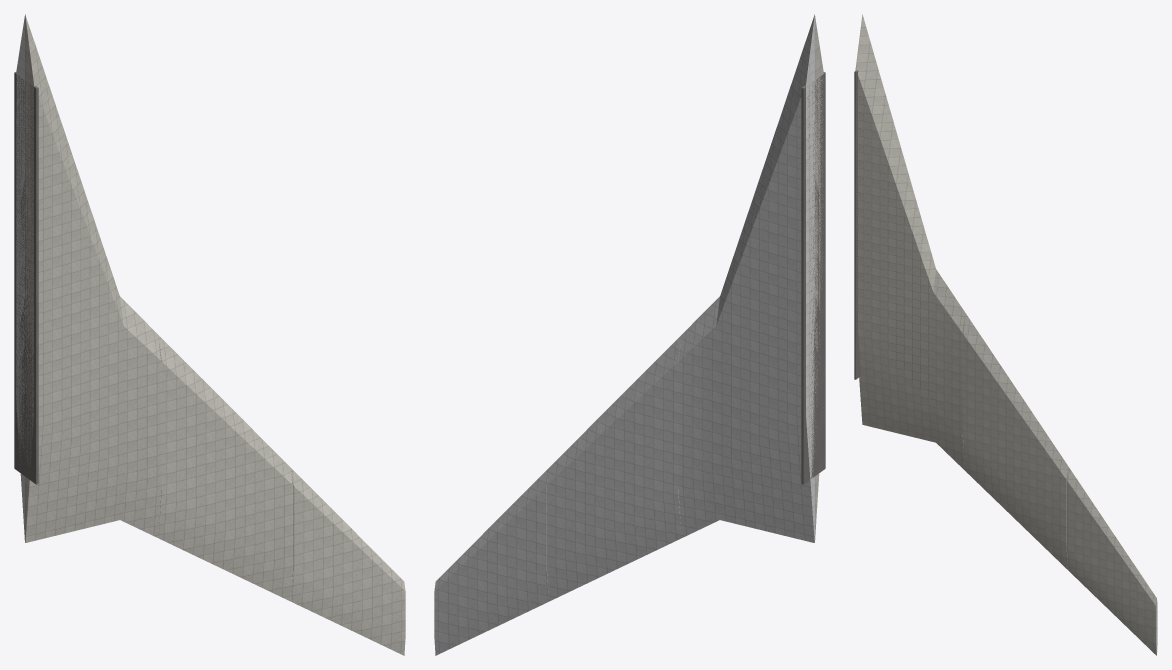
File: ax_aero_17_wgd_delta_wing_l.glb
The picture shows the model from 3 angles, left to right: view 1: azimuth 30°, elevation 25°; view 2: azimuth 150°, elevation 25°; view 3: azimuth 330°, elevation 25°; orthographic projection. The views are drawn at different scales.
Parts seen in each view (by area): view 1: wing_top, root_flange, wing_underside; view 2: wing_underside, root_flange, wing_top; view 3: wing_top, root_flange.
Boxes of the visible parts, <box> form: wing_top: <box>25,14,405,655</box>; root_flange: <box>14,72,38,484</box>; wing_underside: <box>16,16,24,539</box>; wing_underside: <box>434,14,814,655</box>; root_flange: <box>801,72,825,484</box>; wing_top: <box>815,16,823,539</box>; wing_top: <box>855,14,1156,655</box>; root_flange: <box>854,70,860,379</box>.
Bounding box in the file's own units: 5.76 × 10.66 × 0.576.
Materials: 3 (3 with a texture image).
